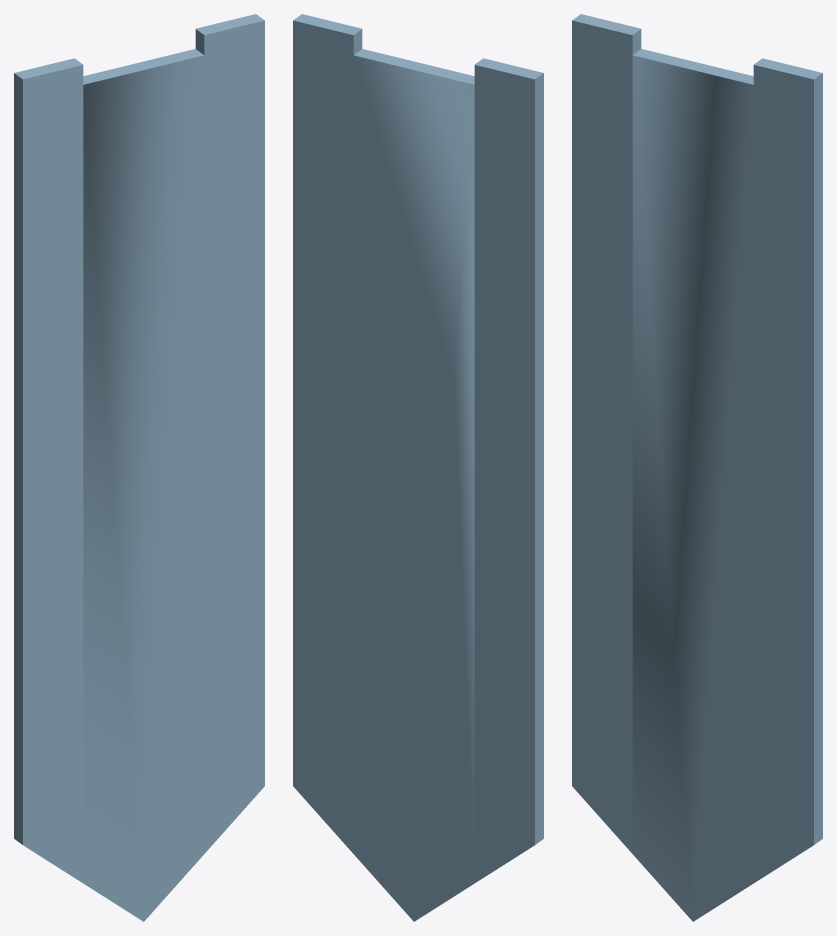
The model's file is flagBannerLong.fbx.
3 views of the same model, side by side, from view 1: azimuth 30°, elevation 25°; view 2: azimuth 150°, elevation 25°; view 3: azimuth 330°, elevation 25° (orthographic).
Parts seen in each view (by area): view 1: flagBannerLong; view 2: flagBannerLong; view 3: flagBannerLong.
Boxes of the visible parts, left/top/right/bottom form: flagBannerLong: left=14, top=14, right=264, bottom=921; flagBannerLong: left=293, top=14, right=543, bottom=921; flagBannerLong: left=572, top=14, right=822, bottom=921.
Bounding box in the file's own units: 189 × 651 × 12.
